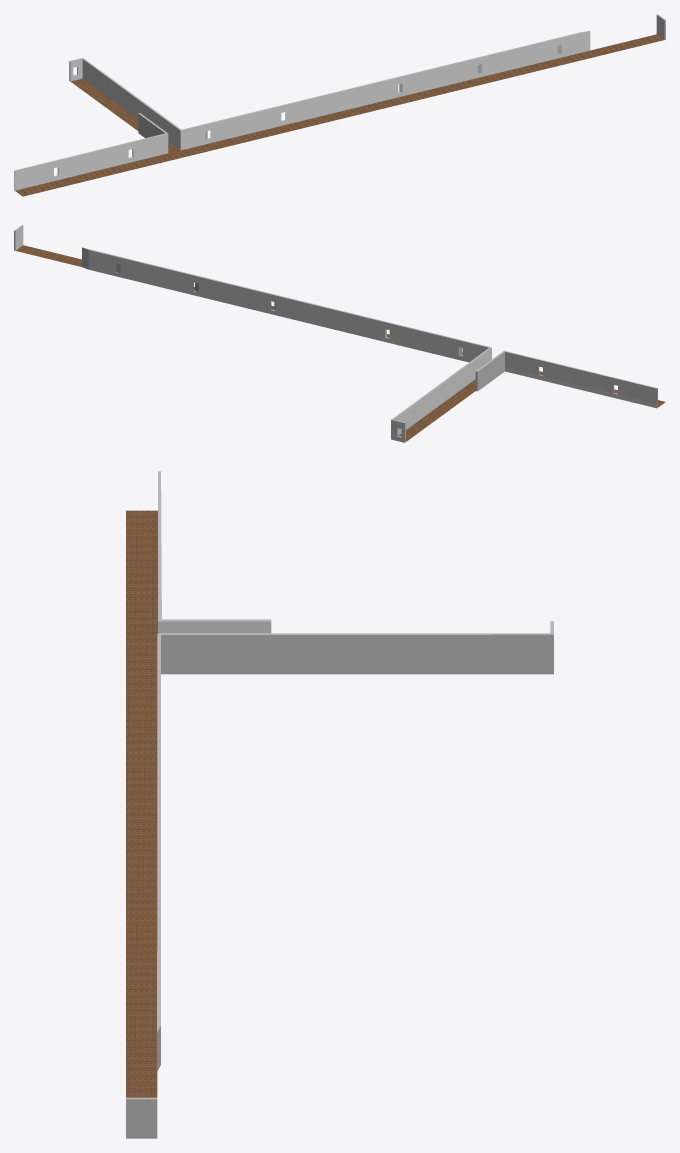
File: CorridorR.fbx
The picture shows the model from 3 angles, top to bottom: view 1: azimuth 30°, elevation 25°; view 2: azimuth 150°, elevation 25°; view 3: azimuth 270°, elevation 25°; orthographic projection. The views are drawn at different scales.
Parts seen in each view (by area): view 1: Corridor.001; view 2: Corridor.001; view 3: Corridor.001.
Boxes of the visible parts, x1,y1,x2,y2 form: Corridor.001: (14, 14, 665, 196); Corridor.001: (14, 225, 665, 442); Corridor.001: (126, 471, 553, 1138).
Size of the model in its own units: 23243 by 680 by 6700.
